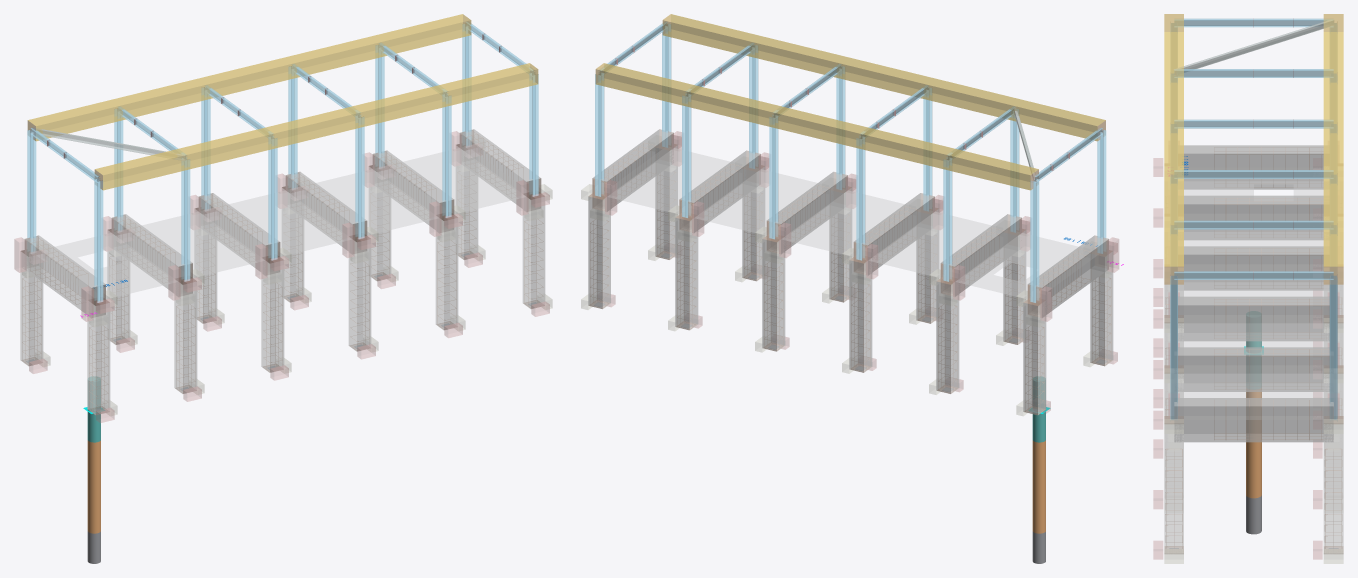
Rendered from Mymodel.gltf.
3 renders of one model, left to right at view 1: azimuth 30°, elevation 25°; view 2: azimuth 150°, elevation 25°; view 3: azimuth 270°, elevation 25°, orthographic. The views are drawn at different scales.
Visible parts, largest first — view 1: Topology (×9), Borehole; view 2: Topology (×8), Borehole; view 3: Topology (×9), Borehole.
Part boxes in pixels (x1,y1,x2,y2): Topology (×9): (14, 14, 552, 422); Borehole: (83, 376, 104, 563); Topology (×8): (581, 14, 1118, 415); Borehole: (1029, 376, 1050, 563); Topology (×9): (1153, 14, 1343, 563); Borehole: (1244, 314, 1263, 534).
Size of what is drawn, in the model's own units: 16.2 by 13.85 by 4.77.
23 materials, 2 textured.
